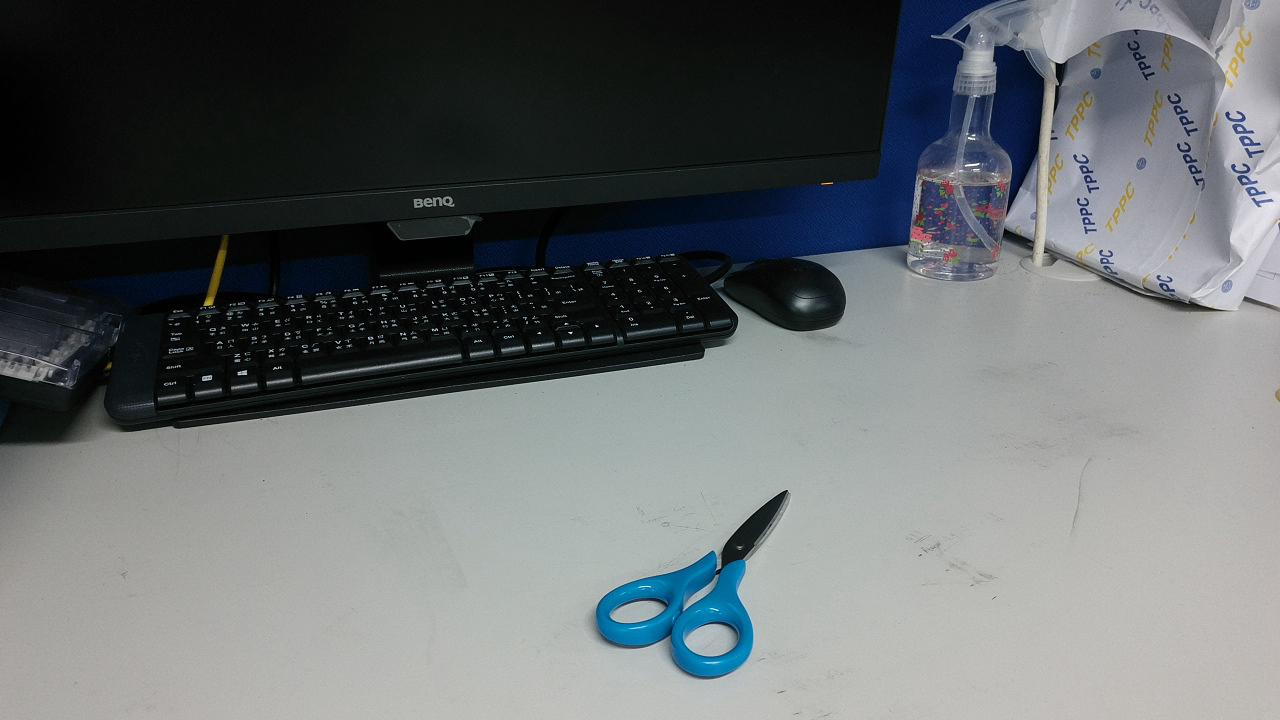long: (635, 476, 795, 667)
